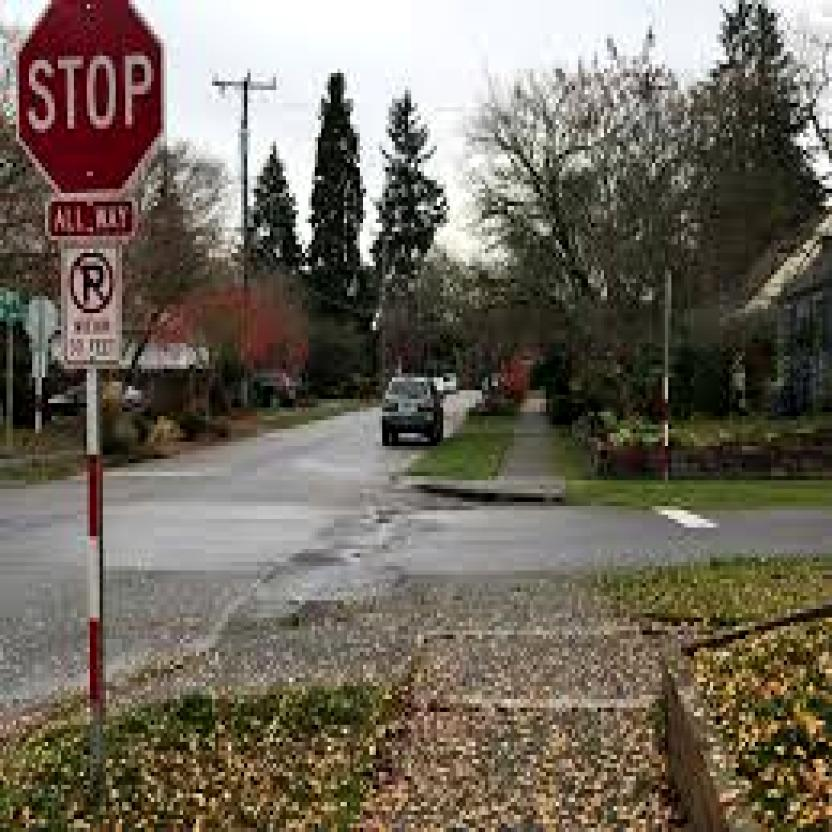Pole: (88, 367, 104, 716)
Sign: (16, 3, 164, 201)
